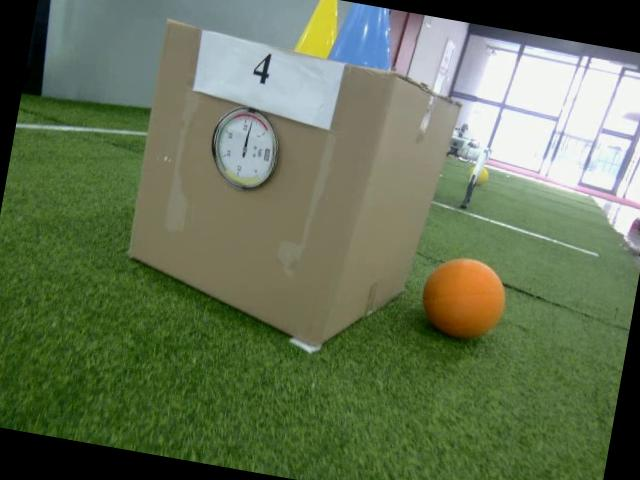4: (248, 48, 275, 88)
Dashboard: (202, 102, 286, 196)
blue_barrel: (325, 0, 404, 74)
orange_ball: (418, 252, 511, 348)
ssi: (260, 146, 272, 162)
yellow_barrel: (289, 0, 344, 59)
